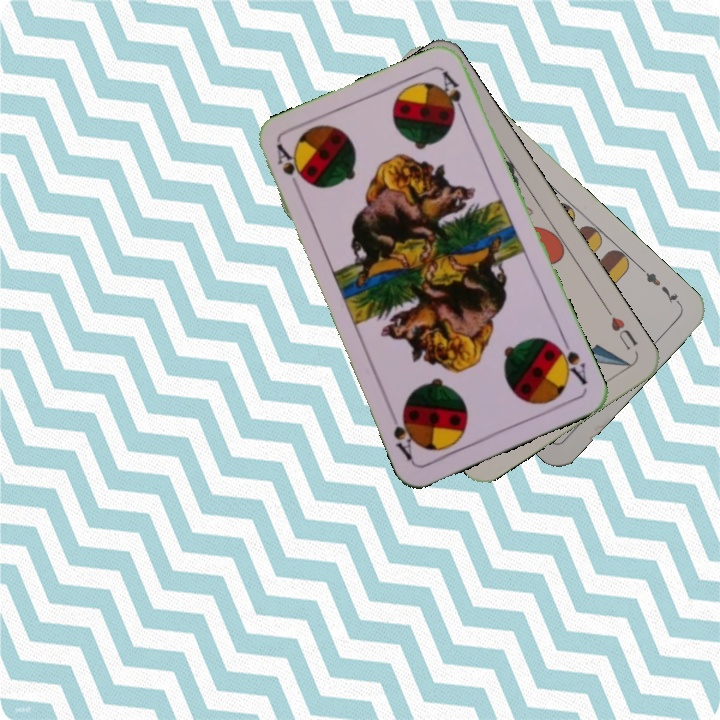E7: (636, 263, 684, 308)
HU: (601, 304, 641, 353)
SA: (549, 333, 590, 388), (272, 140, 306, 197)
